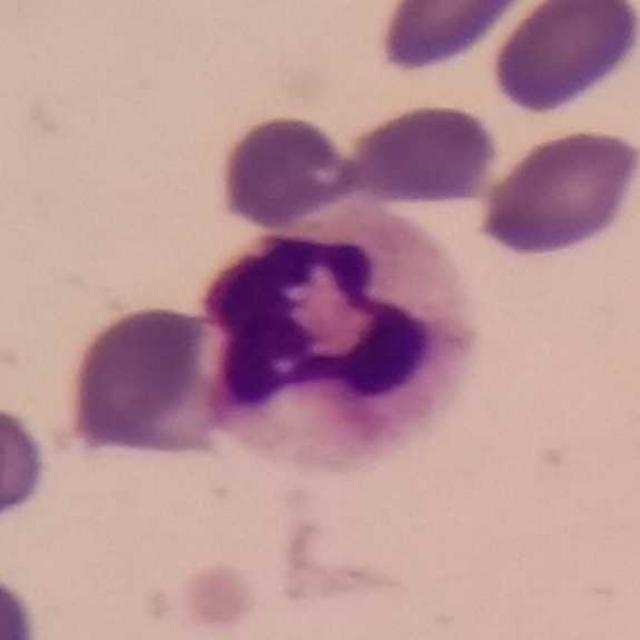Neutrophil: (189, 208, 486, 482)
RBC: (58, 299, 228, 463), (474, 124, 640, 262), (339, 98, 502, 210), (486, 0, 640, 118), (214, 110, 357, 232), (373, 0, 543, 78), (0, 406, 44, 521), (0, 563, 42, 640)
